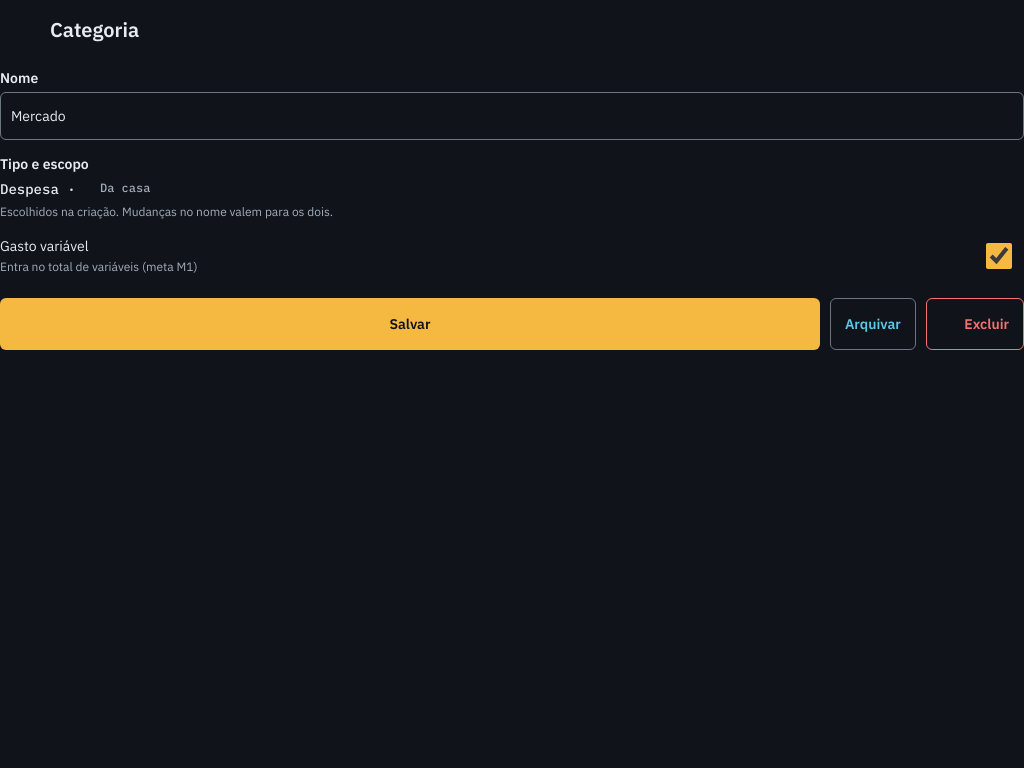
it: Categoria (T20): excluir › "Cancelar" no aviso de em uso volta ao formulário sem arquivar
Click the button "Excluir" at (975,324), box [926,298,1023,350]
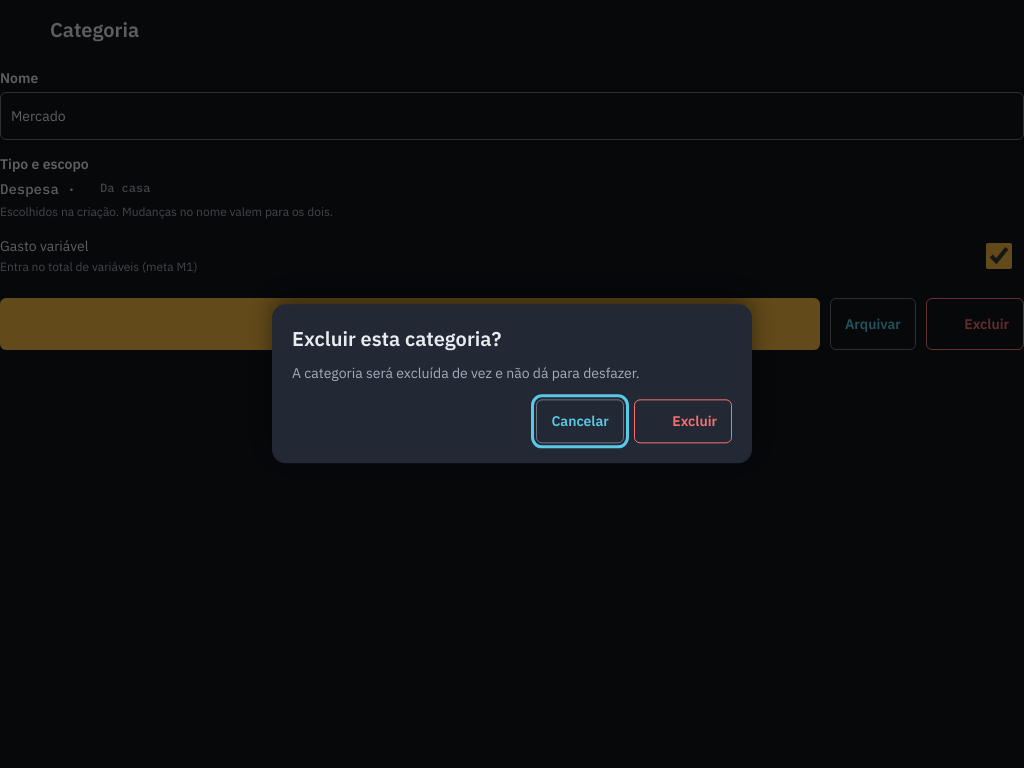
Click the button "Excluir" at (683,422), box [634,400,732,444]
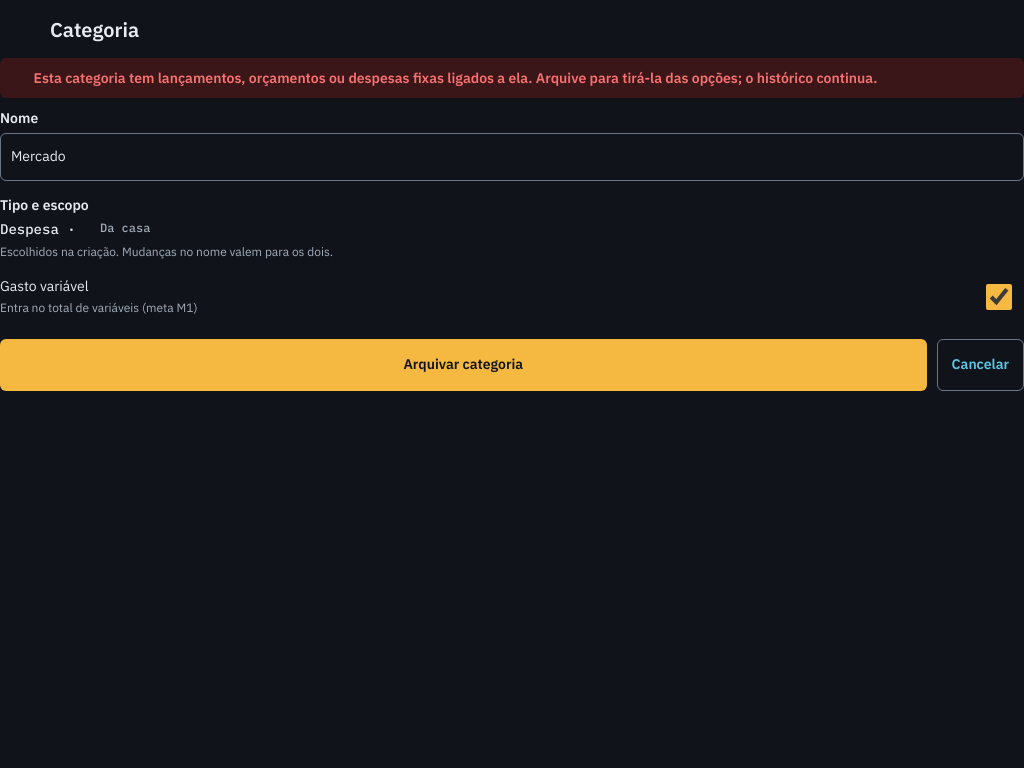
Now the button "Arquivar categoria" is shown, box [0,339,927,391]
Click the button "Cancelar" at (980,365), box [937,339,1023,391]
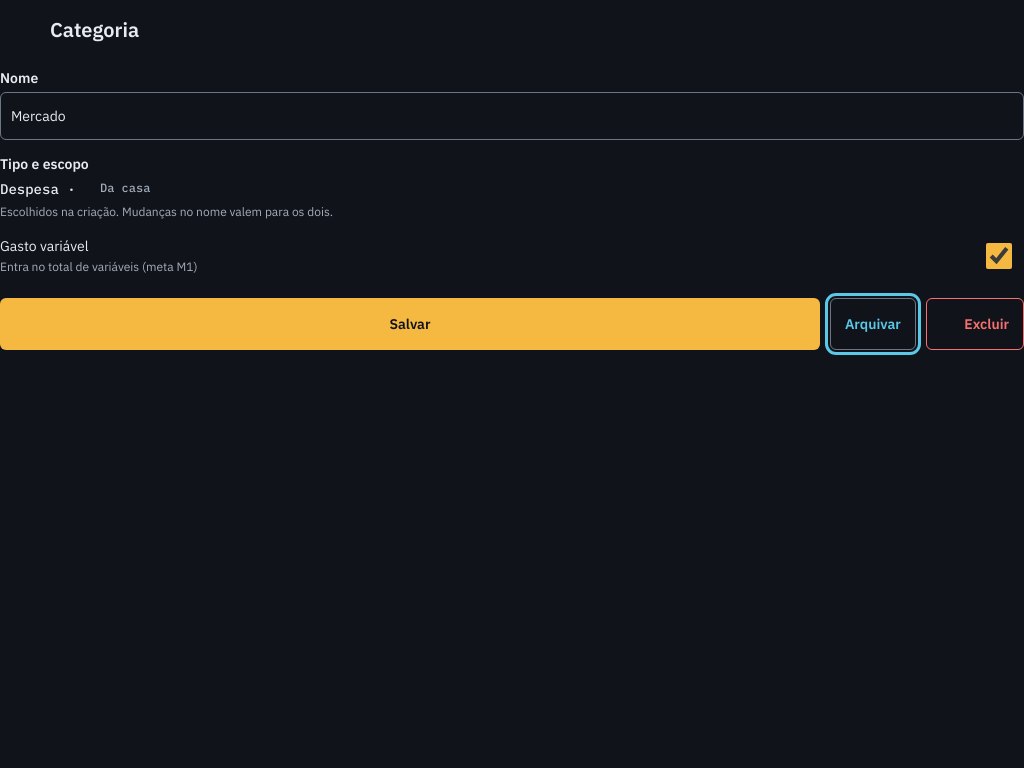
Now the button "Salvar" is shown, box [0,298,820,350]
